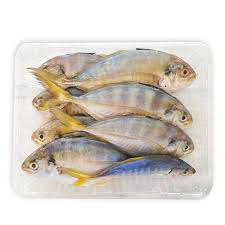Ikan Selar: (27, 77, 197, 128), (41, 42, 200, 95), (70, 115, 199, 163), (21, 134, 131, 181)
